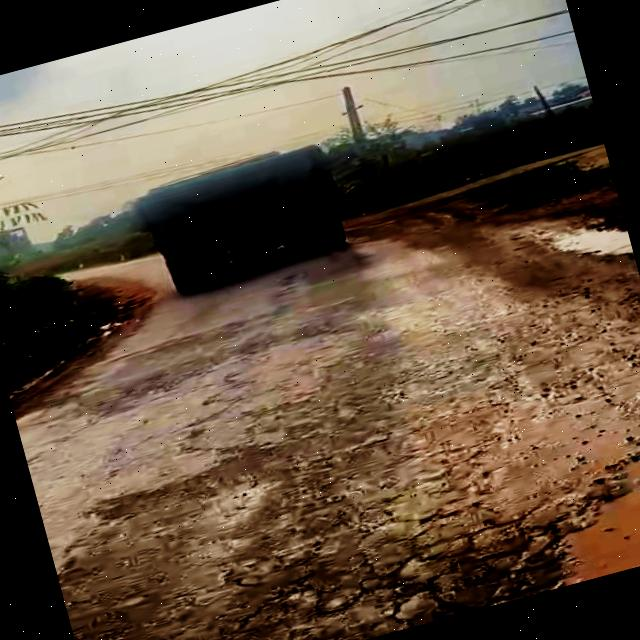pothole: (491, 439, 640, 598)
